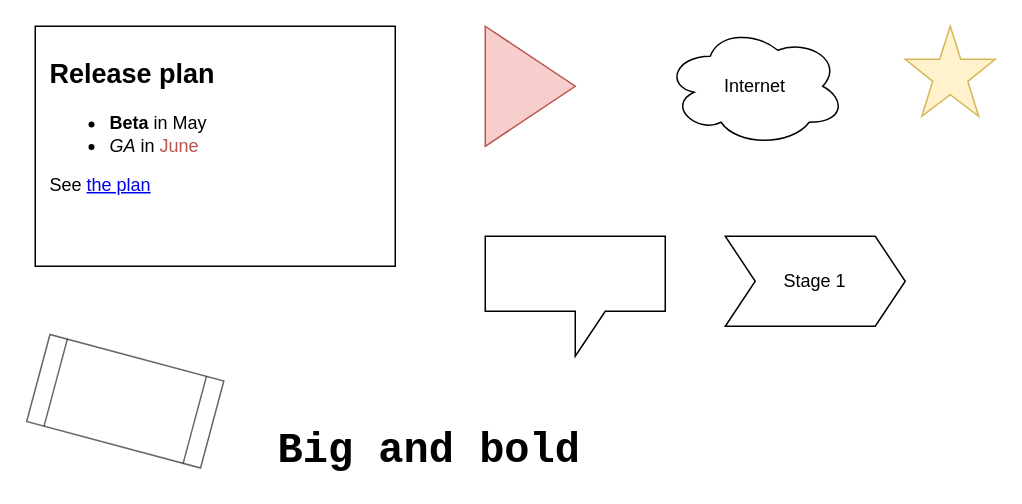
Some shapes in this 1022 by 504 pixel diagram are drawn without their labels. Here are the shapes that lost their labels. From the top down, the centre of each, then its label:
At [574,295]: "Heads up".
At [124,400]: "Subroutine".
